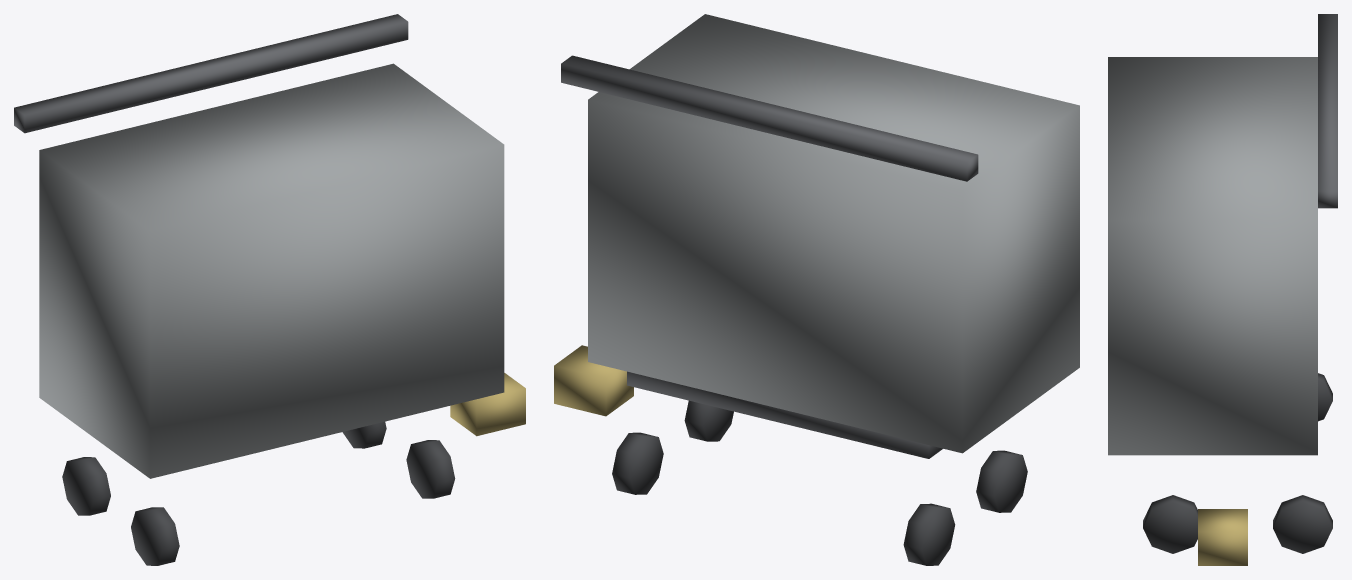
File: grocery_cart_08.glb
3 views of the same model, side by side, from view 1: azimuth 30°, elevation 25°; view 2: azimuth 150°, elevation 25°; view 3: azimuth 270°, elevation 25° (orthographic). The views are drawn at different scales.
Visible parts, largest first — view 1: world; view 2: world; view 3: world.
Part boxes in pixels (x1,y1,x2,y2): world: (14,14,525,565); world: (554,14,1079,565); world: (1108,14,1337,565).
Bounding box in the file's own units: 0.9968 × 0.882 × 0.4784.
